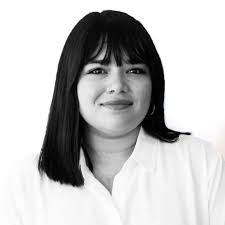black_female: (55, 8, 174, 146)
